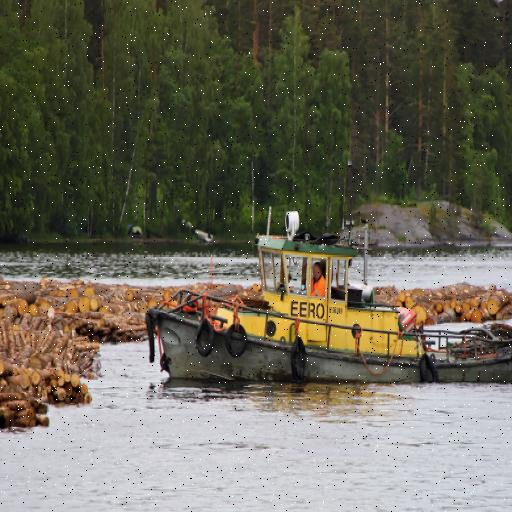tugboat: (143, 158, 512, 402)
